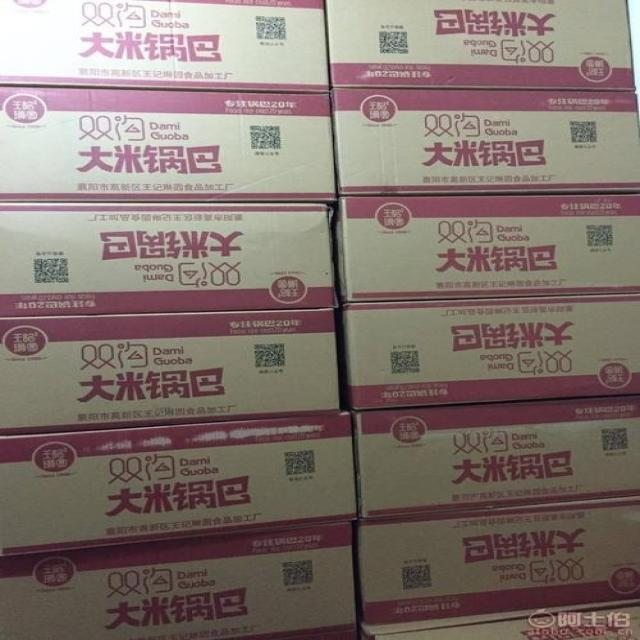box: (1, 413, 357, 556), (1, 308, 339, 437), (4, 521, 357, 638), (360, 492, 639, 634), (0, 87, 339, 202), (1, 202, 337, 317), (351, 394, 640, 518), (342, 295, 637, 408), (340, 192, 639, 300), (330, 90, 637, 194), (4, 0, 328, 91), (325, 1, 637, 87), (365, 605, 637, 638)
